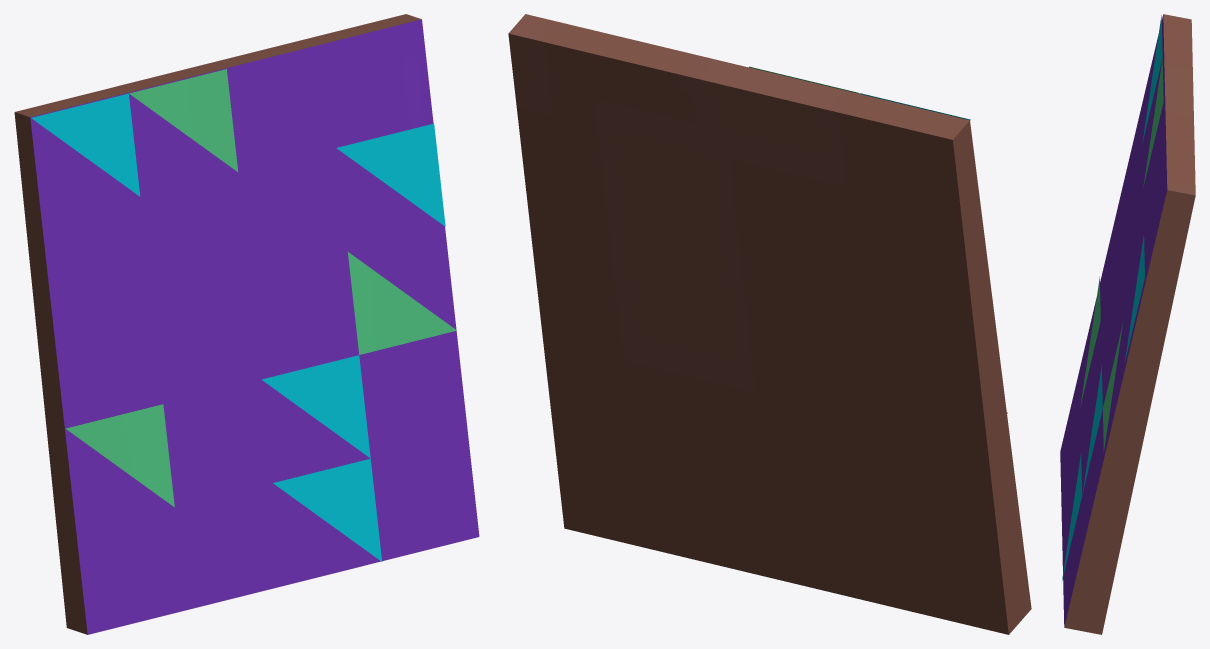
The model's file is prop_071.glb.
The picture shows the model from 3 angles, left to right: view 1: azimuth 30°, elevation 25°; view 2: azimuth 150°, elevation 25°; view 3: azimuth 270°, elevation 25°; orthographic projection. The views are drawn at different scales.
Visible parts, largest first — view 1: prop_071; view 2: prop_071; view 3: prop_071.
Part boxes in pixels (x1,y1,x2,y2): prop_071: (14,14,479,634); prop_071: (508,14,1031,634); prop_071: (1060,14,1195,634).
Bounding box in the file's own units: 0.1391 × 0.1631 × 0.045.
1 material, 1 textured.
